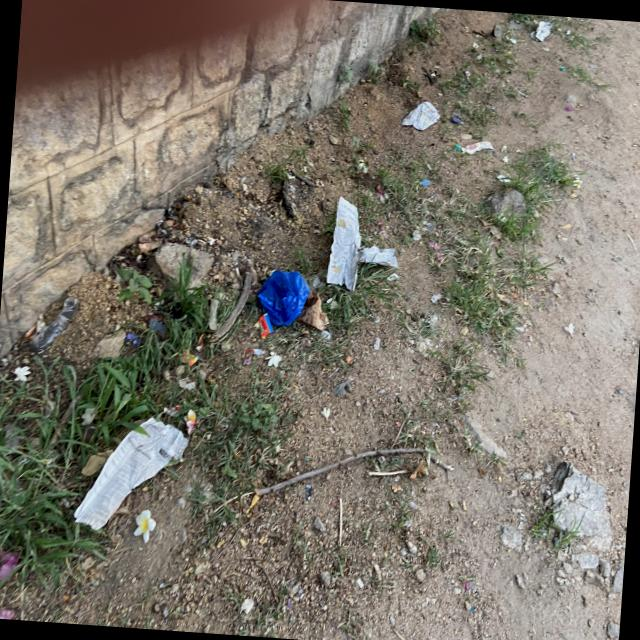giay: (73, 417, 187, 529), (326, 195, 398, 290), (402, 100, 440, 129)
giay_goi: (258, 312, 273, 337)
nhua: (258, 270, 309, 325)
